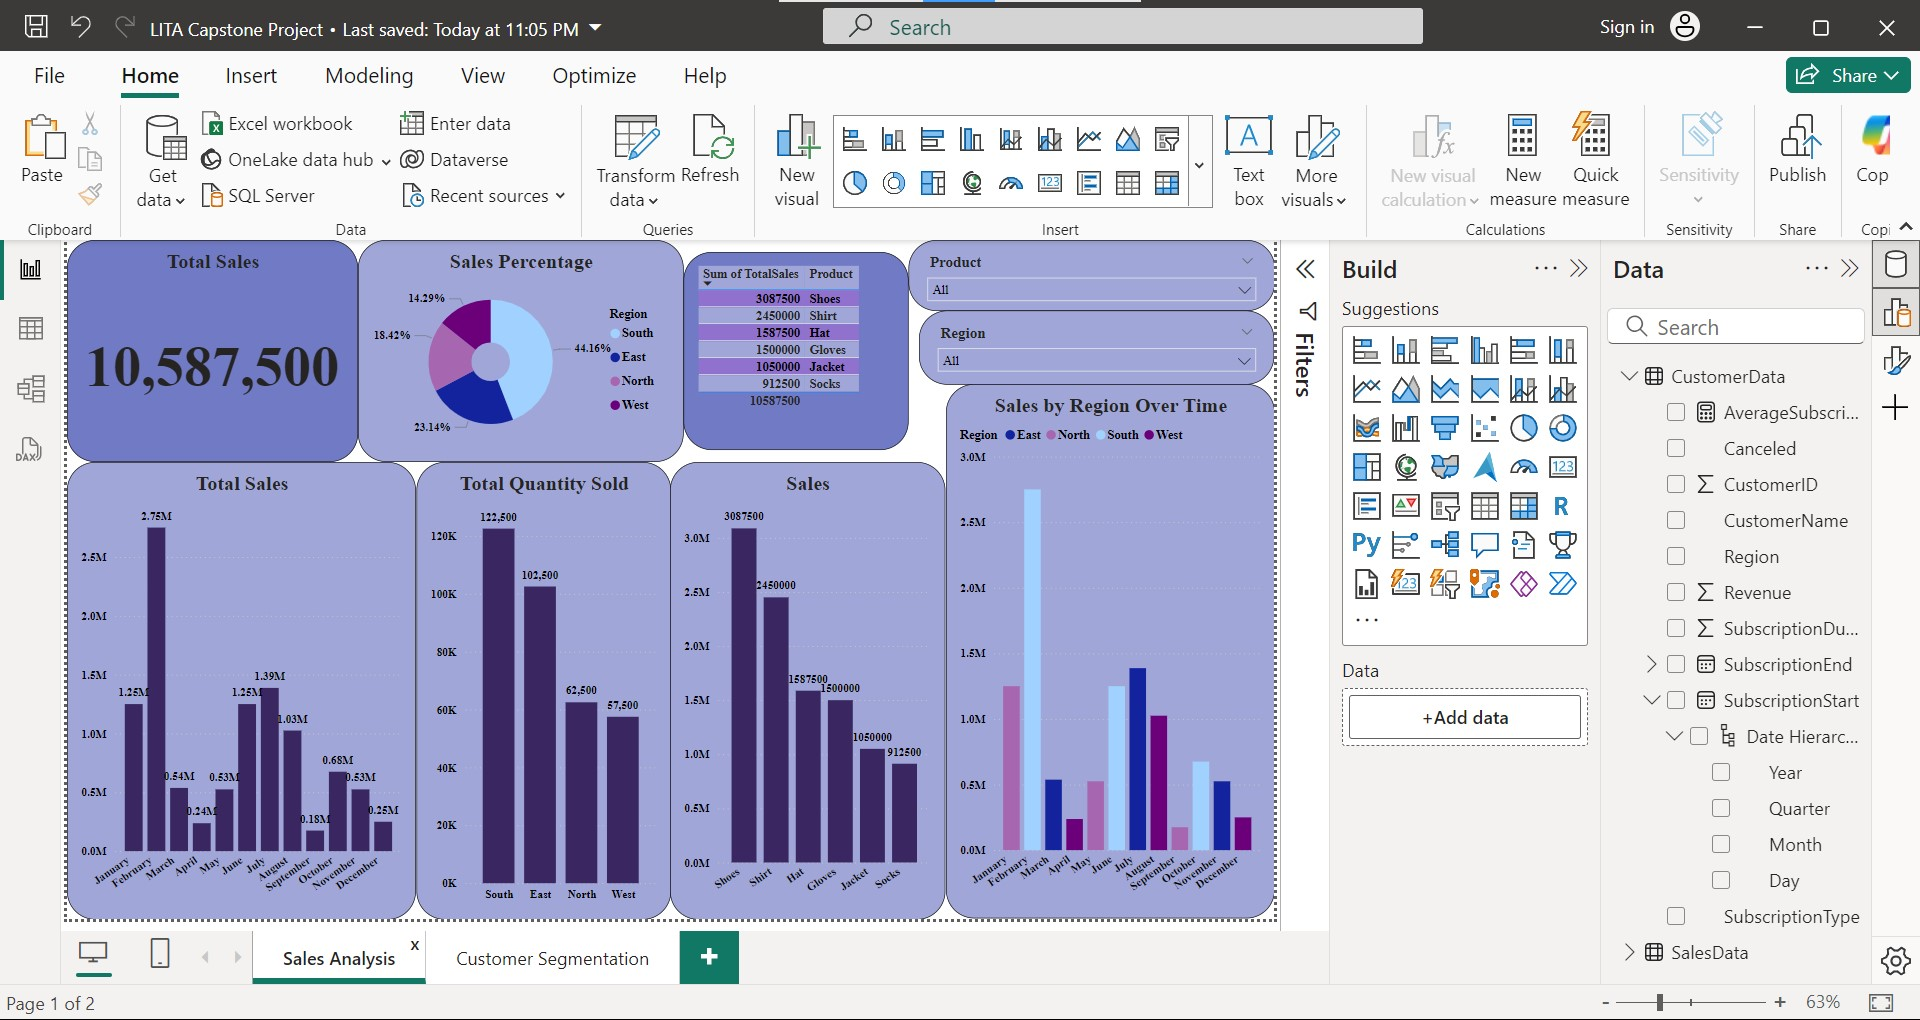

The page's visual inventory and layout, read from the dashboard file:
{"tool":"powerbi","page":{"name":"Sales Analysis","canvas":[1280,720],"ordinal":0},"visuals":[{"type":"card","title":"Total Sales","fields":{"Values":["Sum(SalesData.TotalSales)"]},"box":[0,0,308.3,235],"z":0},{"type":"columnChart","title":"Total Sales","fields":{"Category":["SalesData.OrderDate.Variation.Date Hierarchy.Month"],"Y":["Sum(SalesData.TotalSales)"]},"box":[0,235,370,485],"z":1000},{"type":"clusteredColumnChart","title":"Total Quantity Sold","fields":{"Category":["SalesData.Region"],"Y":["Sum(SalesData.Quantity)"]},"box":[370,235,270,485],"z":2000},{"type":"slicer","title":"Total Quantity Sold","fields":{"Values":["SalesData.Product"]},"box":[891.7,0,388.3,75],"z":3000},{"type":"slicer","title":"Total Quantity Sold","fields":{"Values":["SalesData.Region"]},"box":[903.3,75,376.7,78.3],"z":4000},{"type":"clusteredColumnChart","title":"Sales","fields":{"Y":["Sum(SalesData.TotalSales)"],"Category":["SalesData.Product"]},"box":[640,235,291.7,485],"z":5000},{"type":"tableEx","title":"Total Sales","fields":{"Values":["Avg(SalesData.TotalSales)","SalesData.Product"]},"box":[653.3,13.3,238.3,210],"z":6000},{"type":"donutChart","title":"Sales Percentage","fields":{"Category":["SalesData.Region"],"Y":["Sum(SalesData.TotalSales)"]},"box":[308.3,0,345,235],"z":7000},{"type":"columnChart","title":"Sales by Region Over Time","fields":{"Y":["Sum(SalesData.TotalSales)"],"Series":["SalesData.Region"],"Category":["SalesData.OrderDate.Variation.Date Hierarchy.Month"]},"box":[931.7,153.3,348.3,566.7],"z":8000}]}

Visuals, with their boxes on the page's 1280x720 design canvas (x1, y1, x2, y2). These are canvas units, not pixel positions in the 1920x1020 screenshot, which may show the page scaled, cropped or inside an application window:
"Total Sales" card: BBox(0, 0, 308, 235)
"Total Sales" columnChart: BBox(0, 235, 370, 720)
"Total Quantity Sold" clusteredColumnChart: BBox(370, 235, 640, 720)
"Total Quantity Sold" slicer: BBox(892, 0, 1280, 75)
"Total Quantity Sold" slicer: BBox(903, 75, 1280, 153)
"Sales" clusteredColumnChart: BBox(640, 235, 932, 720)
"Total Sales" tableEx: BBox(653, 13, 892, 223)
"Sales Percentage" donutChart: BBox(308, 0, 653, 235)
"Sales by Region Over Time" columnChart: BBox(932, 153, 1280, 720)
